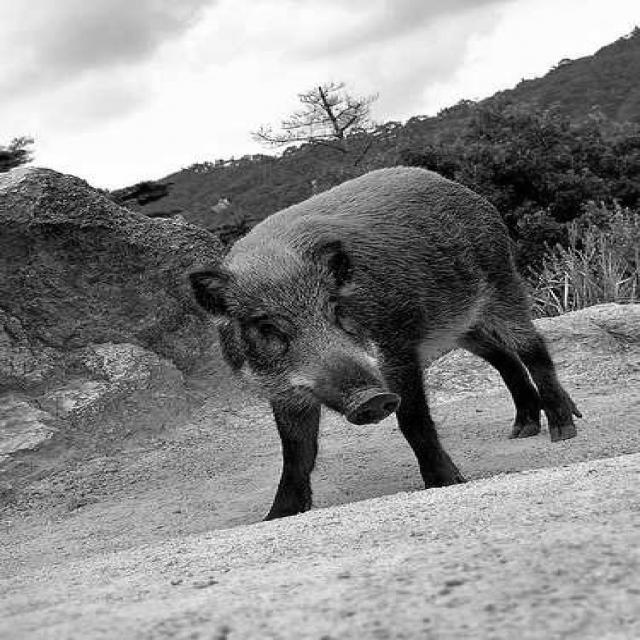boar: (189, 169, 579, 519)
